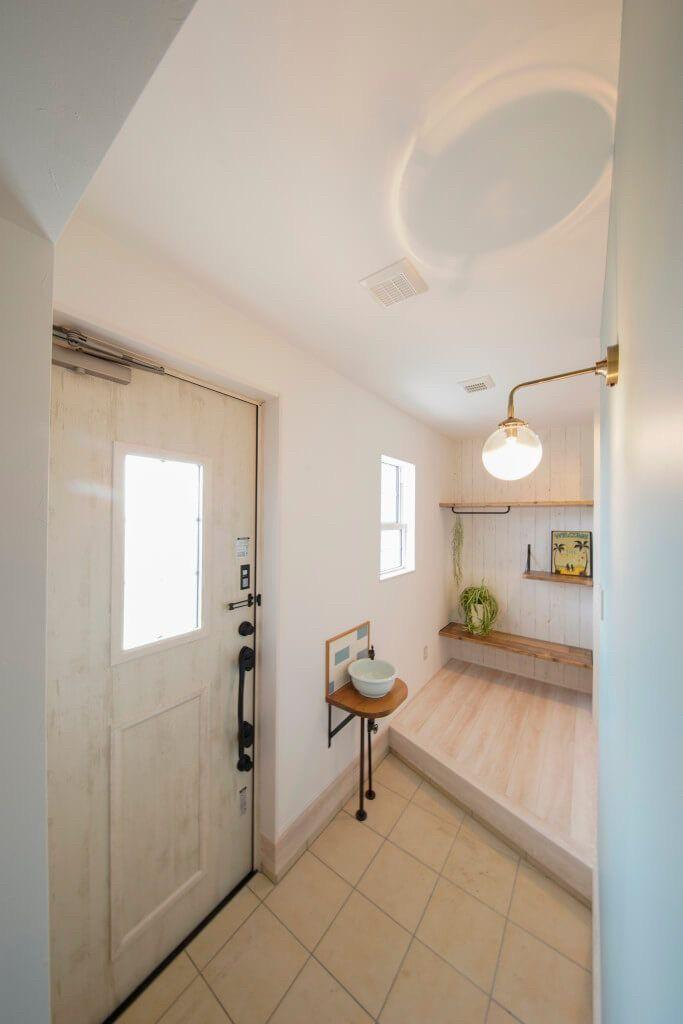floor: (113, 751, 593, 1023)
safe: (387, 658, 592, 869)
